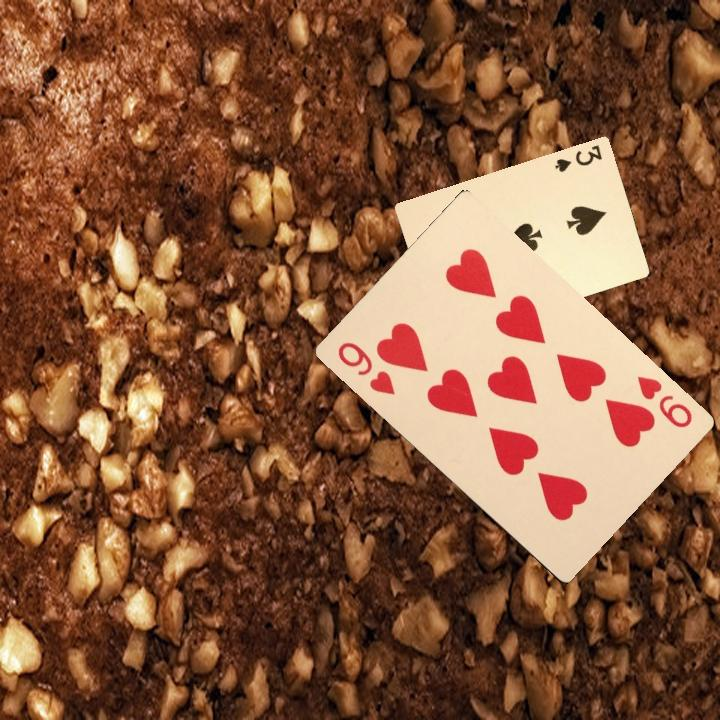3s: (551, 141, 605, 175)
9h: (333, 338, 398, 398), (632, 371, 695, 431)
